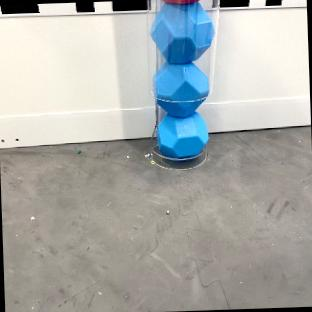Loader: (145, 0, 219, 168)
V5_BLUE: (150, 0, 214, 61), (153, 59, 210, 118), (157, 112, 208, 159)
